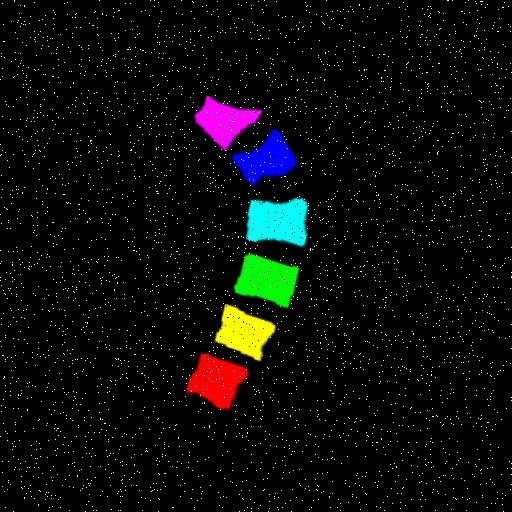L1: (179, 350, 241, 406)
L2: (208, 301, 269, 357)
L3: (229, 250, 293, 304)
L4: (241, 194, 304, 242)
L5: (230, 126, 291, 180)
S1: (192, 91, 258, 146)
